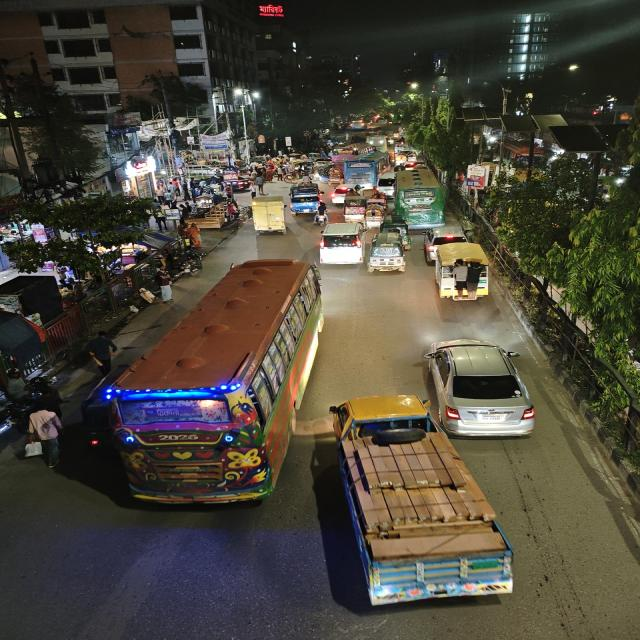bus: (105, 256, 322, 516), (394, 168, 449, 226), (341, 153, 389, 188), (365, 130, 385, 146)
car: (418, 335, 539, 441), (317, 218, 366, 270), (420, 226, 470, 261), (286, 183, 324, 215), (375, 176, 396, 198)
cng: (368, 229, 408, 278)
human_hauler: (430, 247, 502, 305)
motorcycle: (158, 239, 207, 281)
pedestrian: (24, 402, 65, 468), (82, 330, 119, 374)
pickup_van: (322, 390, 526, 613)
rickshaw: (341, 195, 368, 221), (364, 202, 385, 226), (329, 184, 351, 204), (319, 165, 339, 182), (296, 170, 316, 184)
truck: (249, 194, 287, 236)
